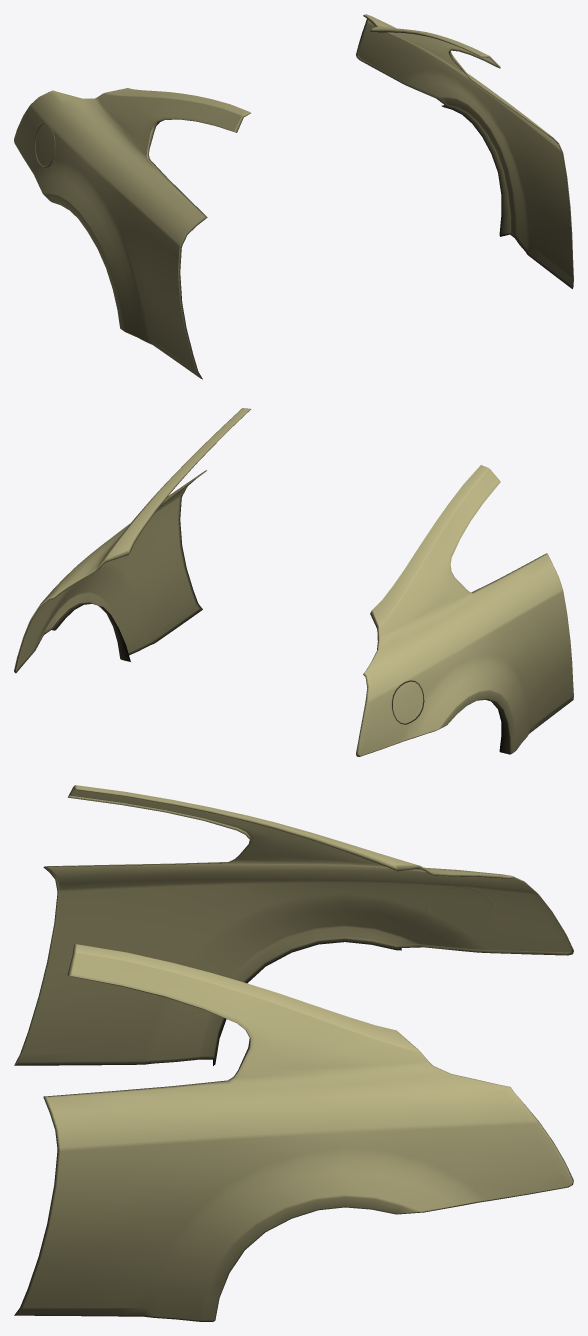
File: G37_Fender_06_Duco.fbx
The picture shows the model from 3 angles, top to bottom: view 1: azimuth 30°, elevation 25°; view 2: azimuth 150°, elevation 25°; view 3: azimuth 270°, elevation 25°; orthographic projection. The views are drawn at different scales.
Visible parts, largest first — view 1: G37_Fender_06_Duco; view 2: G37_Fender_06_Duco; view 3: G37_Fender_06_Duco.
Boxes of the visible parts, box(x1,y1,x2,y2) form: G37_Fender_06_Duco: box(14, 14, 573, 379); G37_Fender_06_Duco: box(14, 408, 573, 756); G37_Fender_06_Duco: box(14, 785, 573, 1321).
Bounding box in the file's own units: 185 × 103 × 161.
